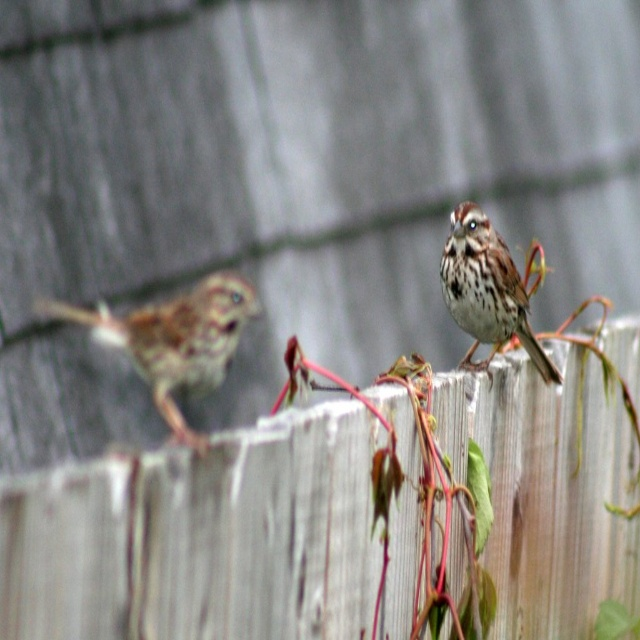Sparrow: (30, 273, 268, 459), (439, 203, 560, 387)
